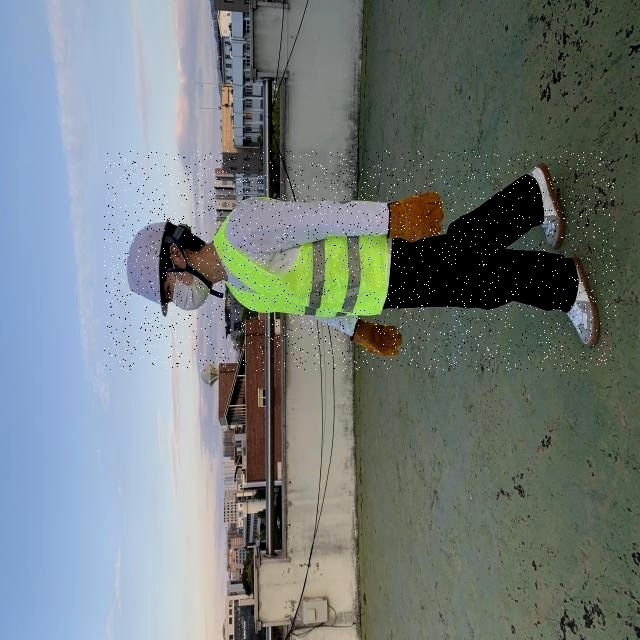boots: (548, 255, 609, 359), (522, 151, 573, 255)
gloves: (385, 188, 444, 246), (349, 313, 405, 360)
helmet: (122, 213, 176, 324)
vest: (215, 197, 397, 320)
